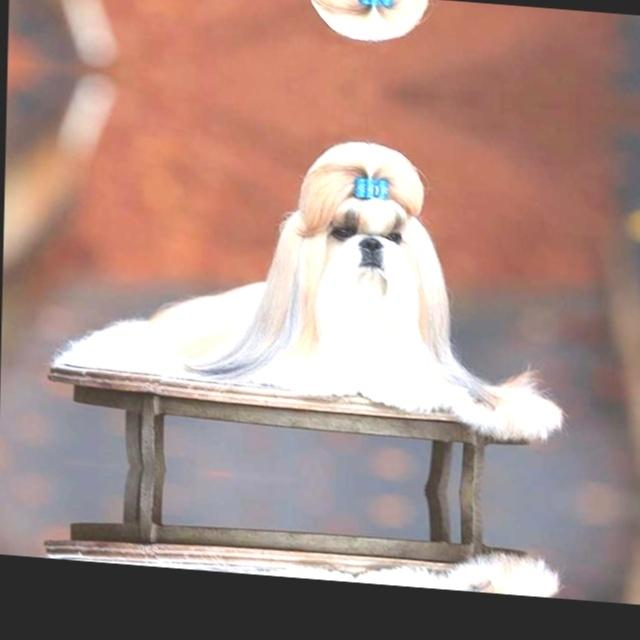dog: (280, 112, 482, 356), (286, 0, 484, 73)
